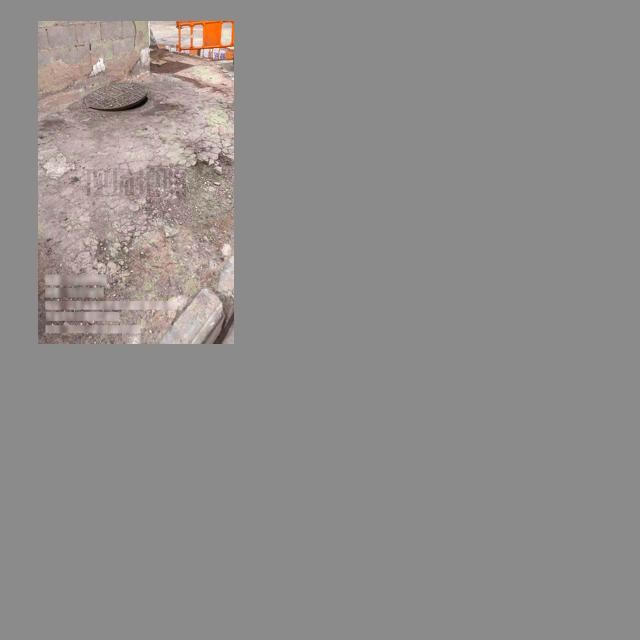uncovered: (82, 81, 147, 112)
